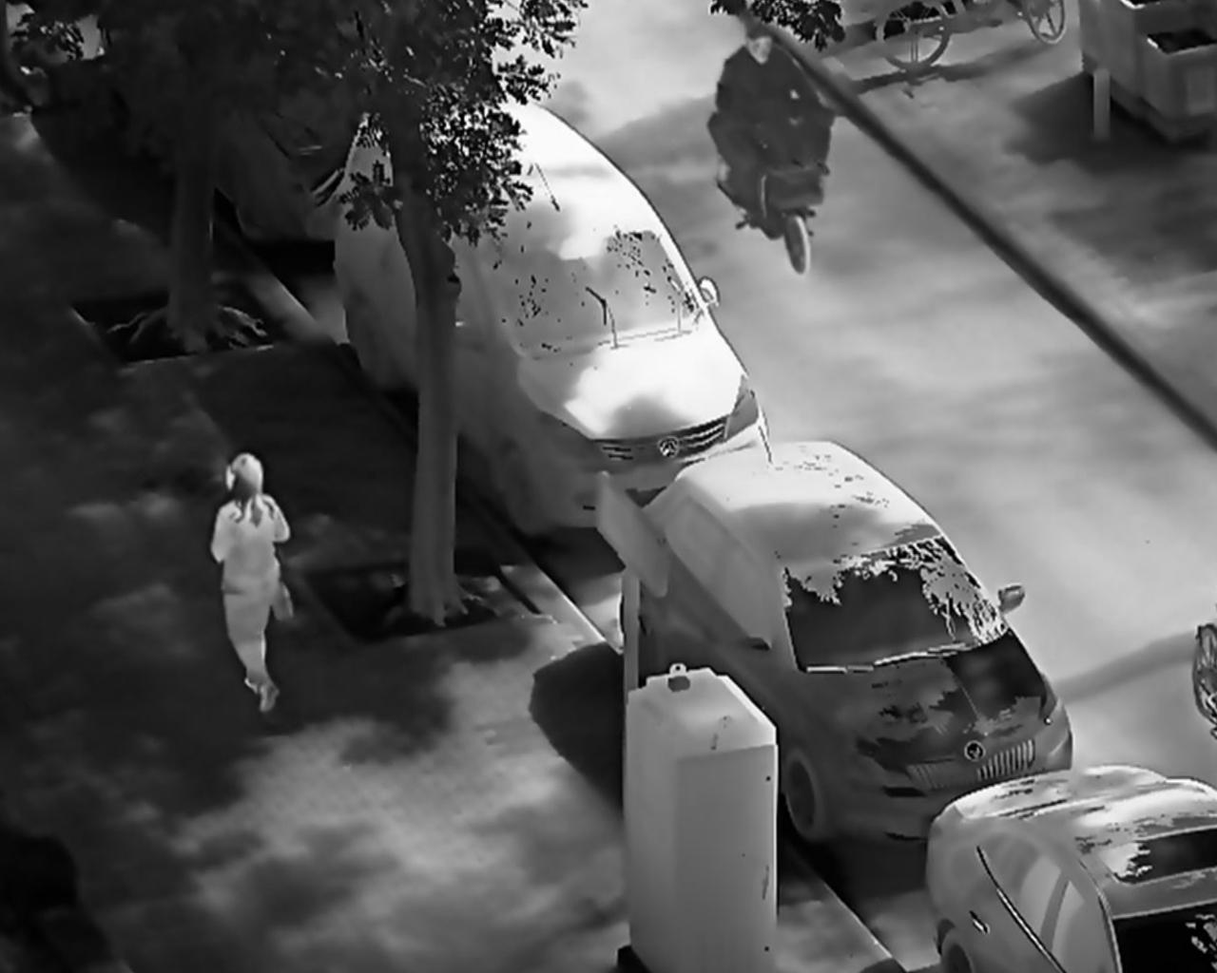person: (206, 448, 296, 720), (712, 20, 828, 219)
